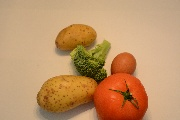broccoli: (72, 39, 110, 80)
egg: (111, 52, 136, 77)
potato: (34, 74, 98, 112), (52, 20, 98, 50)
tomato: (95, 71, 148, 120)
